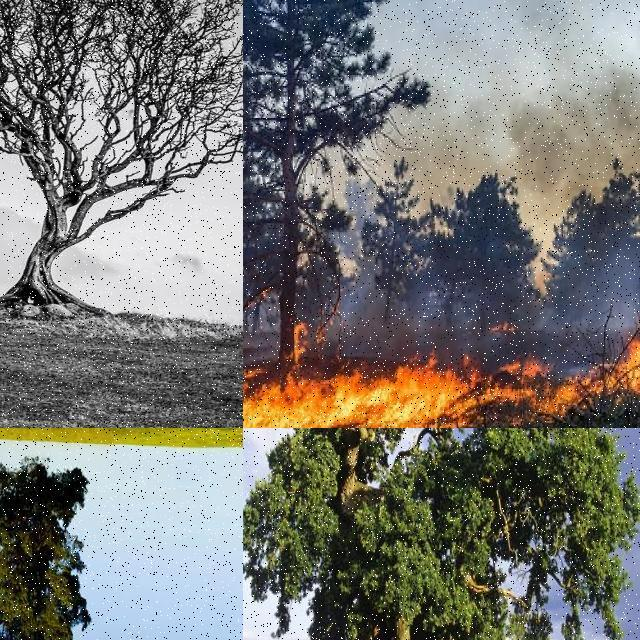tree: (243, 428, 640, 640), (0, 1, 244, 308), (242, 0, 433, 362), (0, 436, 118, 640), (428, 168, 536, 336), (356, 158, 432, 322), (243, 575, 289, 640)
